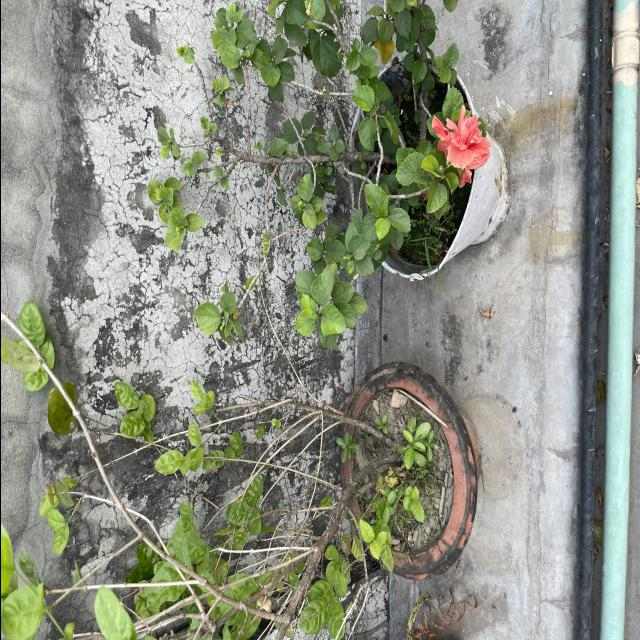Breeding Place: (345, 360, 479, 577), (373, 64, 508, 276)
